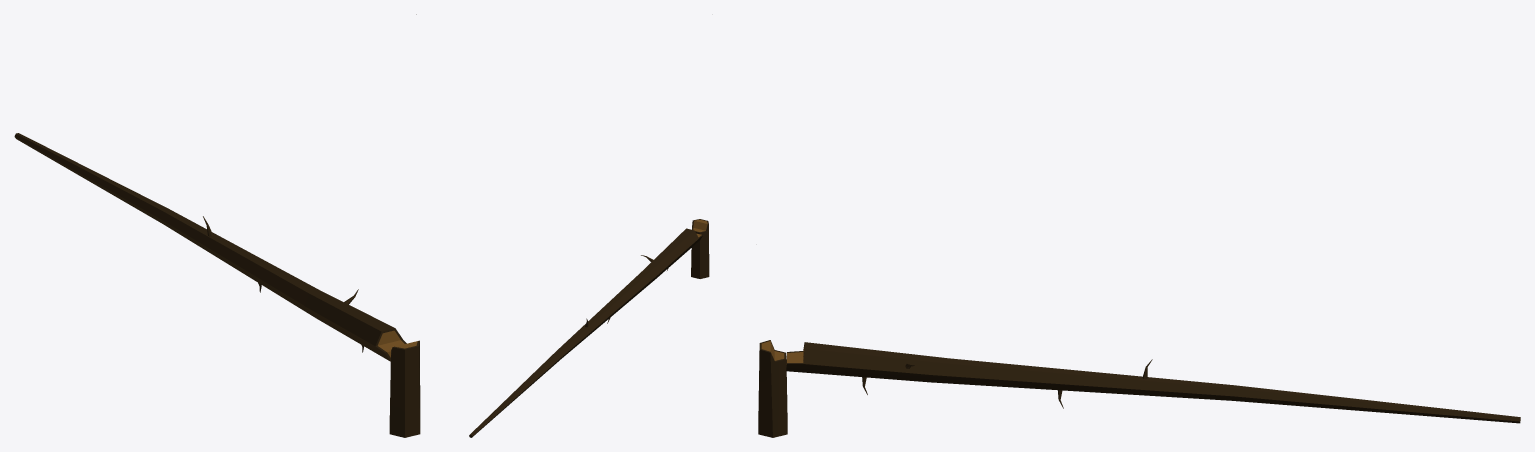
The model's file is Tree3.fbx.
3 views of the same model, side by side, from view 1: azimuth 30°, elevation 25°; view 2: azimuth 150°, elevation 25°; view 3: azimuth 270°, elevation 25° (orthographic). The views are drawn at different scales.
Parts seen in each view (by area): view 1: Zylinder_1, Zylinder; view 2: Zylinder_1, Zylinder; view 3: Zylinder_1, Zylinder.
Part boxes in pixels (x1,y1,x2,y2): Zylinder_1: (14, 133, 406, 361); Zylinder: (389, 14, 420, 437); Zylinder_1: (469, 228, 702, 437); Zylinder: (691, 219, 709, 278); Zylinder_1: (786, 342, 1520, 423); Zylinder: (758, 340, 787, 437).
Bounding box in the file's own units: 183 × 1769 × 3016.
